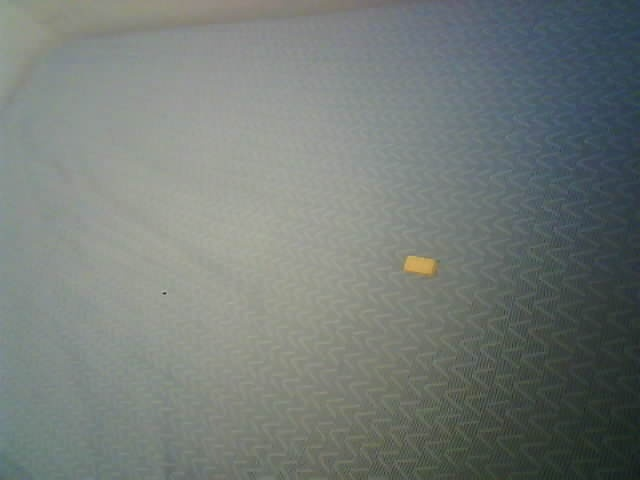lego: (402, 255, 439, 278)
